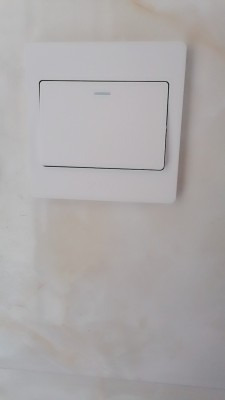switch: (35, 72, 172, 177)
